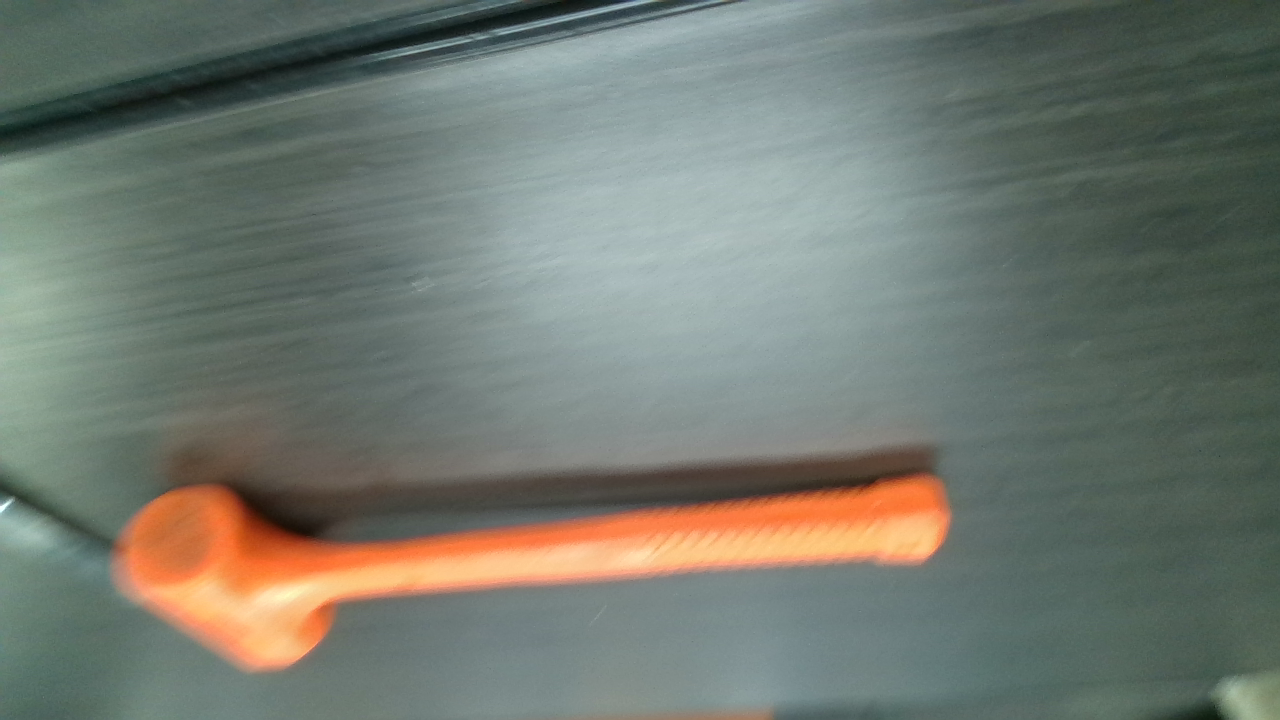Orange Hammer: (118, 468, 946, 672)
